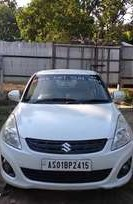AS018P2415: (42, 159, 91, 170)
